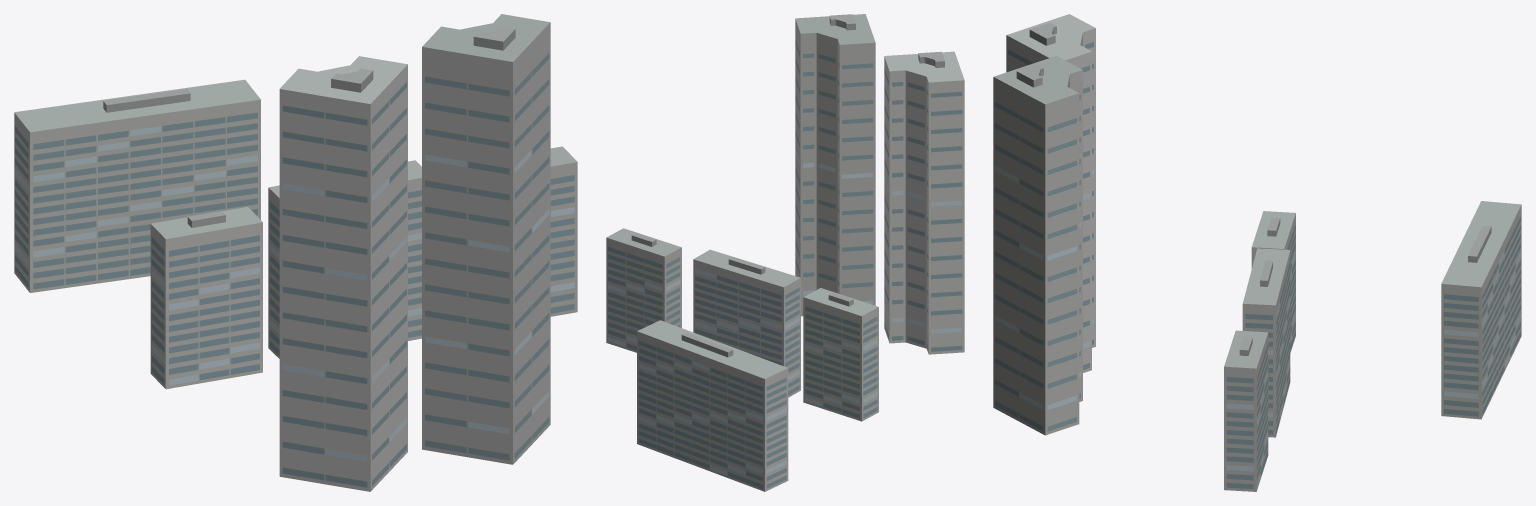
Rendered from apt-a15076801.glb.
3 views of the same model, side by side, from view 1: azimuth 30°, elevation 25°; view 2: azimuth 150°, elevation 25°; view 3: azimuth 270°, elevation 25° (orthographic). The views are drawn at different scales.
Visible parts, largest first — view 1: apt-a15076801; view 2: apt-a15076801; view 3: apt-a15076801.
Part boxes in pixels (x1,y1,x2,y2): apt-a15076801: (14,14,577,491); apt-a15076801: (606,14,964,491); apt-a15076801: (993,14,1521,491).
Bounding box in the file's own units: 111 × 110 × 156.
